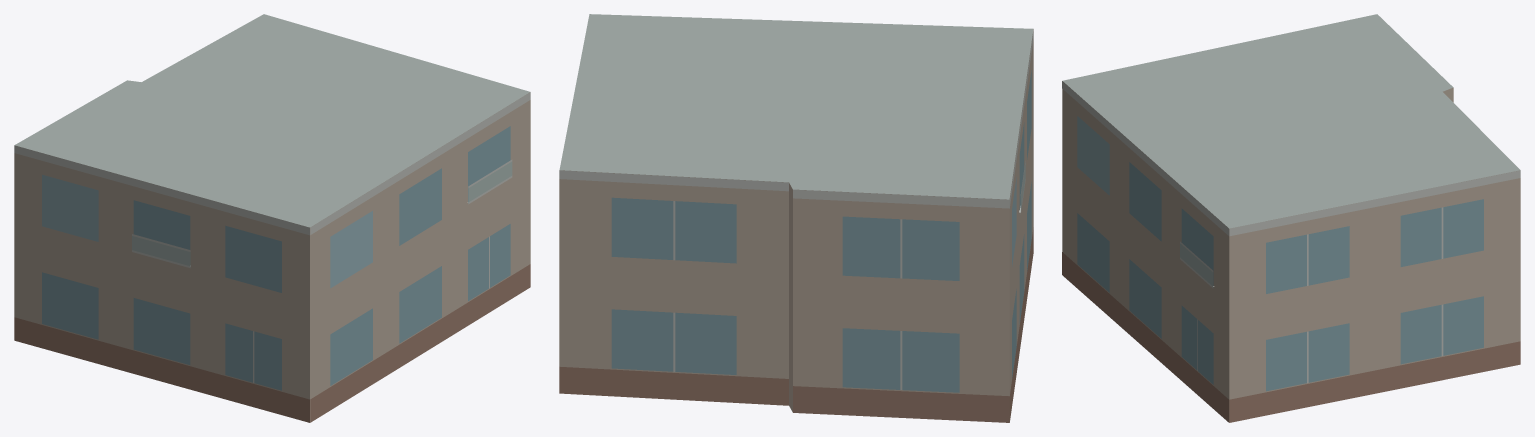
Rendered from survey-upis-32690956.glb.
The picture shows the model from 3 angles, left to right: view 1: azimuth 30°, elevation 25°; view 2: azimuth 150°, elevation 25°; view 3: azimuth 270°, elevation 25°; orthographic projection. The views are drawn at different scales.
Visible parts, largest first — view 1: survey-upis-32690956.tmp; view 2: survey-upis-32690956.tmp; view 3: survey-upis-32690956.tmp.
Part boxes in pixels (left/top/right/bottom): survey-upis-32690956.tmp: left=14, top=14, right=530, bottom=422; survey-upis-32690956.tmp: left=559, top=14, right=1033, bottom=422; survey-upis-32690956.tmp: left=1062, top=14, right=1520, bottom=422.
Bounding box in the file's own units: 14.46 × 6.1 × 13.05.
